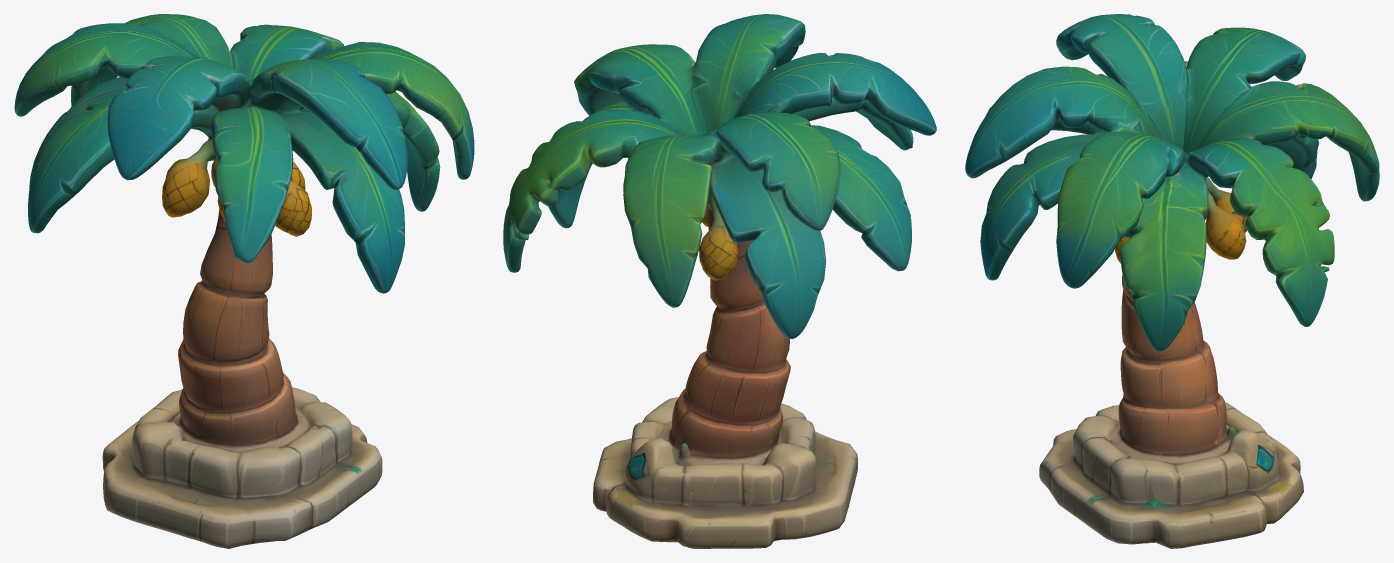
File: 10-garden-palm.glb
3 views of the same model, side by side, from view 1: azimuth 30°, elevation 25°; view 2: azimuth 150°, elevation 25°; view 3: azimuth 270°, elevation 25° (orthographic). The views are drawn at different scales.
Parts seen in each view (by area): view 1: tripo_node_93c14a1c; view 2: tripo_node_93c14a1c; view 3: tripo_node_93c14a1c.
Part boxes in pixels (x1=…): tripo_node_93c14a1c: x1=14, y1=14, x2=474, y2=548; tripo_node_93c14a1c: x1=503, y1=14, x2=936, y2=548; tripo_node_93c14a1c: x1=965, y1=14, x2=1379, y2=548.
Size of the model in its own units: 0.4422 by 0.5 by 0.4353.
1 material, 1 textured.
